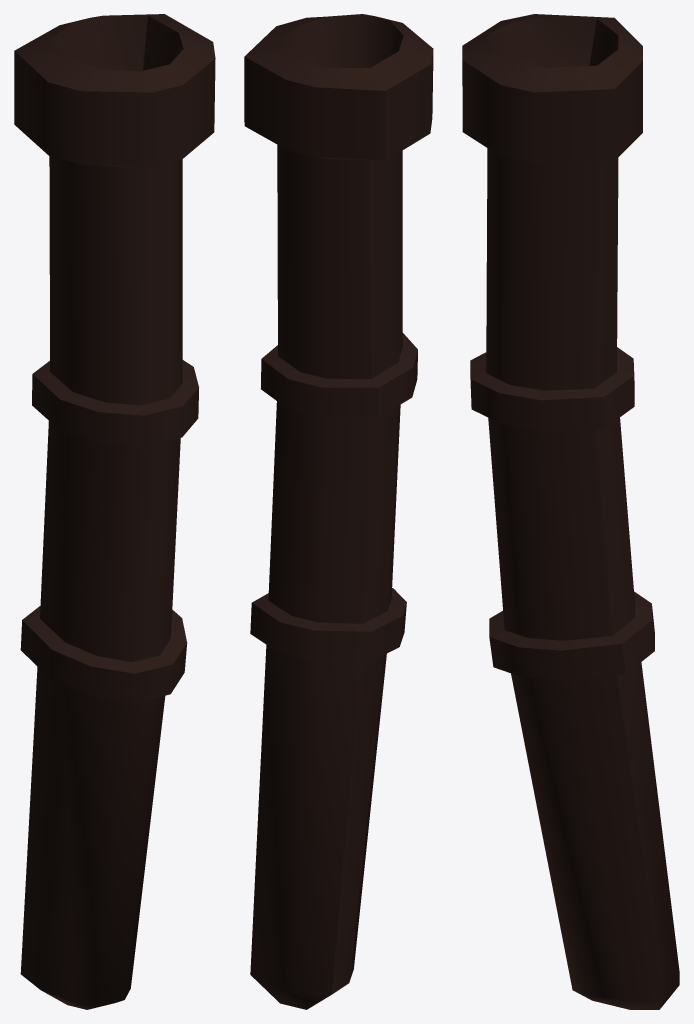
File: katana_sheath.obj
3 renders of one model, left to right at view 1: azimuth 30°, elevation 25°; view 2: azimuth 150°, elevation 25°; view 3: azimuth 270°, elevation 25°, orthographic. The views are drawn at different scales.
Visible parts, largest first — view 1: katana_sheath_Cube.8581; view 2: katana_sheath_Cube.8581; view 3: katana_sheath_Cube.8581.
Part boxes in pixels (x1,y1,x2,y2): katana_sheath_Cube.8581: (14,14,215,1009); katana_sheath_Cube.8581: (244,14,433,1009); katana_sheath_Cube.8581: (462,14,679,1009).
Bounding box in the file's own units: 0.1817 × 1.04 × 0.2126.
